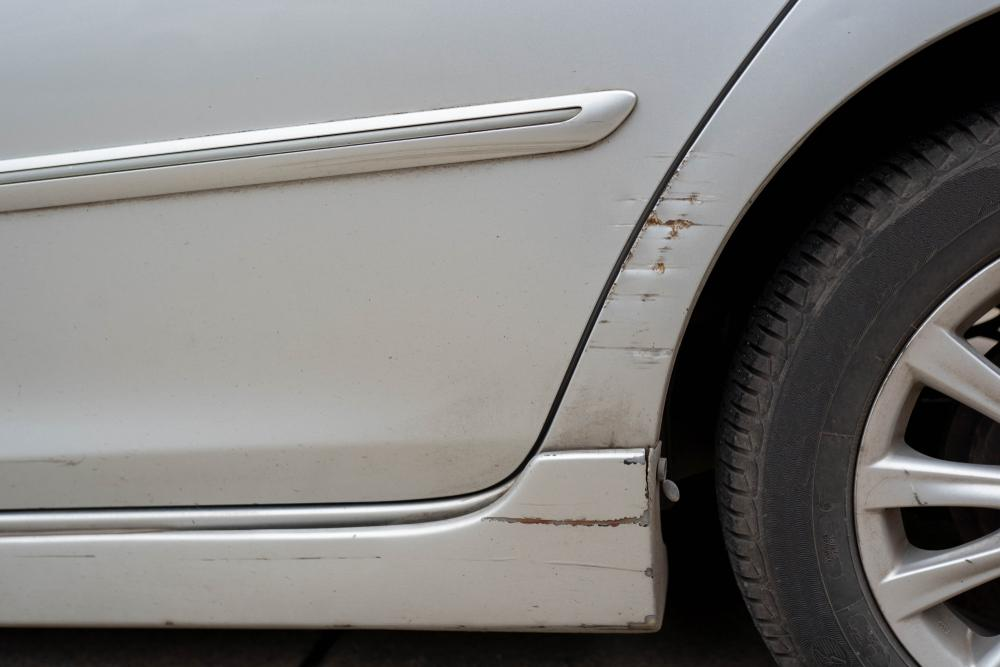scratch: (583, 148, 731, 369), (471, 450, 656, 537)
